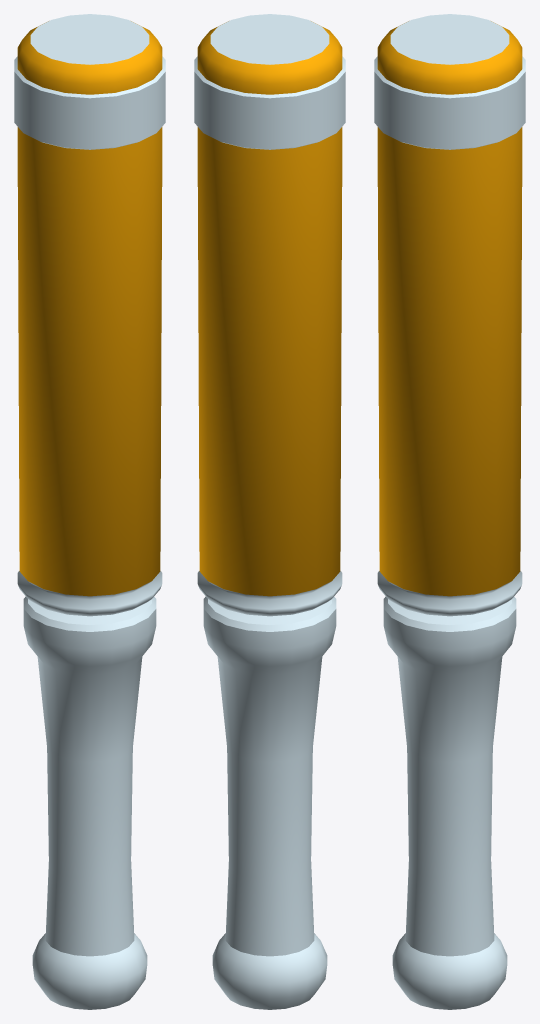
File: Controller_Penlight.FBX
The picture shows the model from 3 angles, left to right: view 1: azimuth 30°, elevation 25°; view 2: azimuth 150°, elevation 25°; view 3: azimuth 270°, elevation 25°; orthographic projection.
Parts seen in each view (by area): view 1: Cylinder001; view 2: Cylinder001; view 3: Cylinder001.
Part boxes in pixels (x1,y1,x2,y2): Cylinder001: (14,14,165,1009); Cylinder001: (194,14,345,1009); Cylinder001: (374,14,525,1009).
Size of the model in its own units: 36.03 by 246 by 35.48.
1 material, 1 textured.
